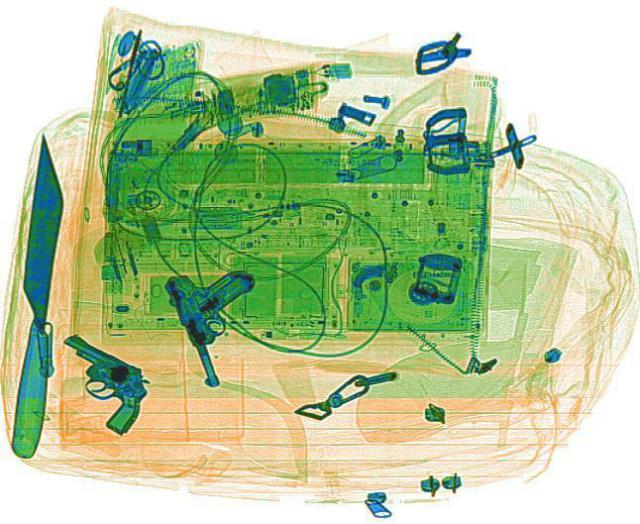Gun: (158, 256, 292, 386), (22, 327, 170, 432)
Knife: (8, 131, 68, 457)
